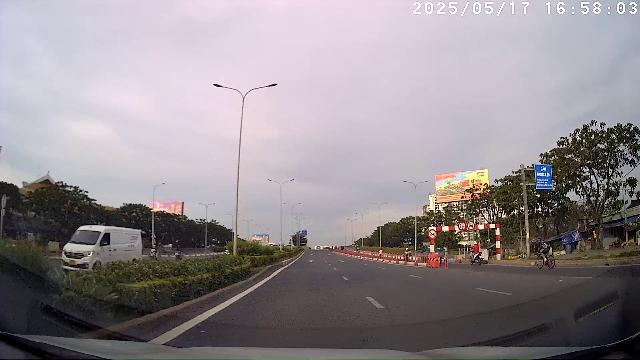103a-cam-oto: (467, 221, 475, 230)
